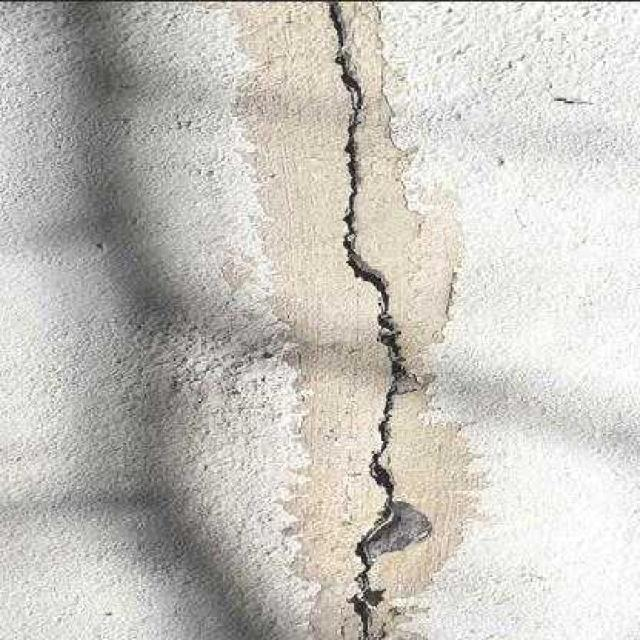D00: (329, 0, 404, 640)
